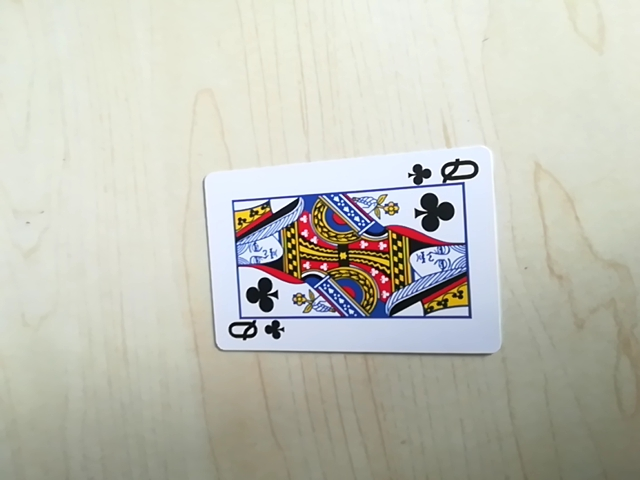mh q: (409, 156, 486, 188), (221, 316, 285, 349)
